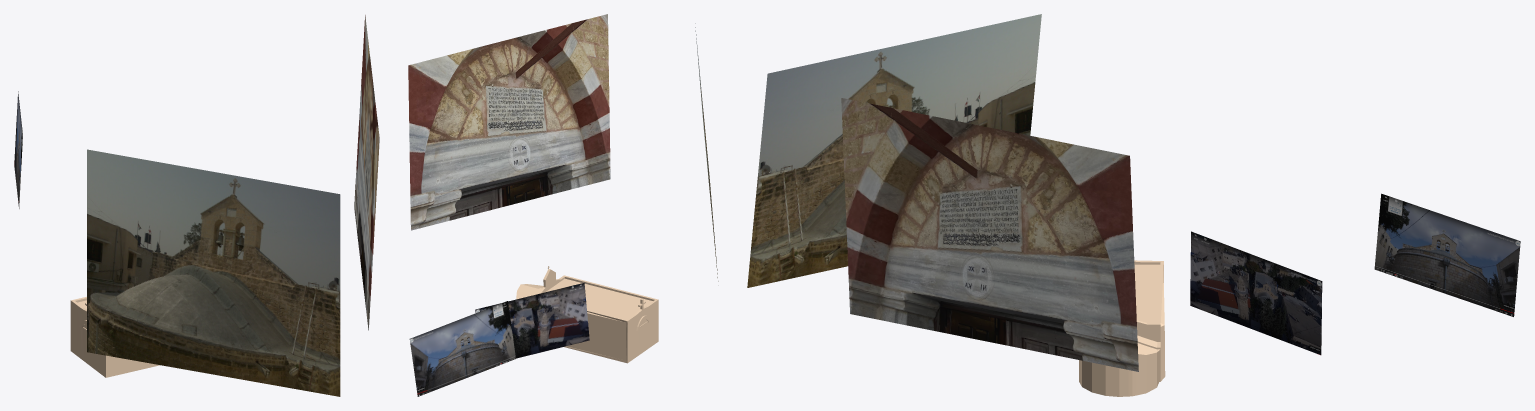
File: church6.fbx
3 views of the same model, side by side, from view 1: azimuth 30°, elevation 25°; view 2: azimuth 150°, elevation 25°; view 3: azimuth 270°, elevation 25° (orthographic). The views are drawn at different scales.
Parts seen in each view (by area): view 1: s.0184, s.0180, s.0305_0, s.0015; view 2: s.0180, s.0015, s.0305_0, s.0017, s.0184; view 3: s.0180, s.0184, s.0015, s.0017, s.0305_0.
Boxes of the visible parts, box(x1,y1,x2,y2) form: s.0184: box(87, 149, 340, 396); s.0180: box(354, 15, 379, 330); s.0305_0: box(70, 296, 159, 377); s.0015: box(14, 91, 22, 208); s.0180: box(408, 14, 610, 230); s.0015: box(409, 301, 515, 396); s.0305_0: box(516, 266, 658, 363); s.0017: box(475, 282, 589, 358); s.0184: box(695, 23, 718, 281); s.0180: box(841, 98, 1138, 371); s.0184: box(747, 14, 1041, 287); s.0015: box(1374, 193, 1520, 316); s.0017: box(1190, 231, 1322, 355); s.0305_0: box(1079, 260, 1165, 396).
Bounding box in the file's own units: 78.82 × 143 × 64.64.
Materials: 5 (4 with a texture image).
